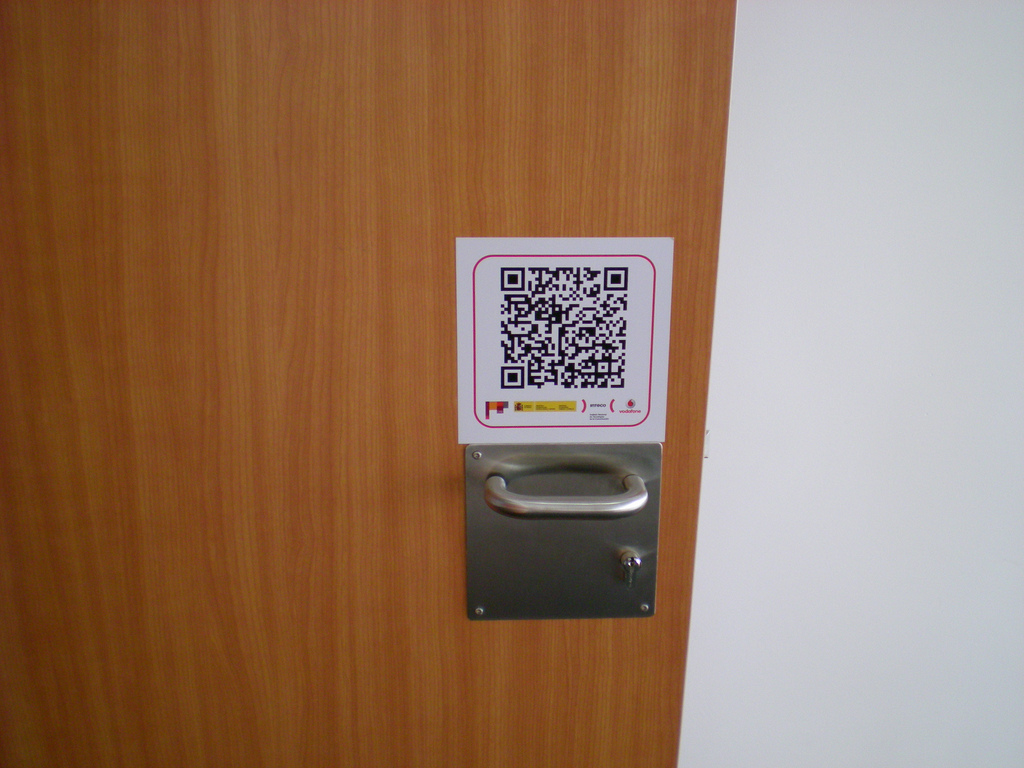QR-CODE: (501, 267, 627, 388)
